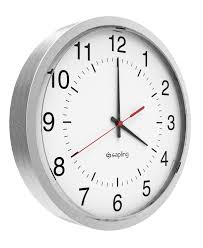alarm_clock: (9, 14, 191, 229), (17, 14, 191, 229), (17, 26, 191, 229)
